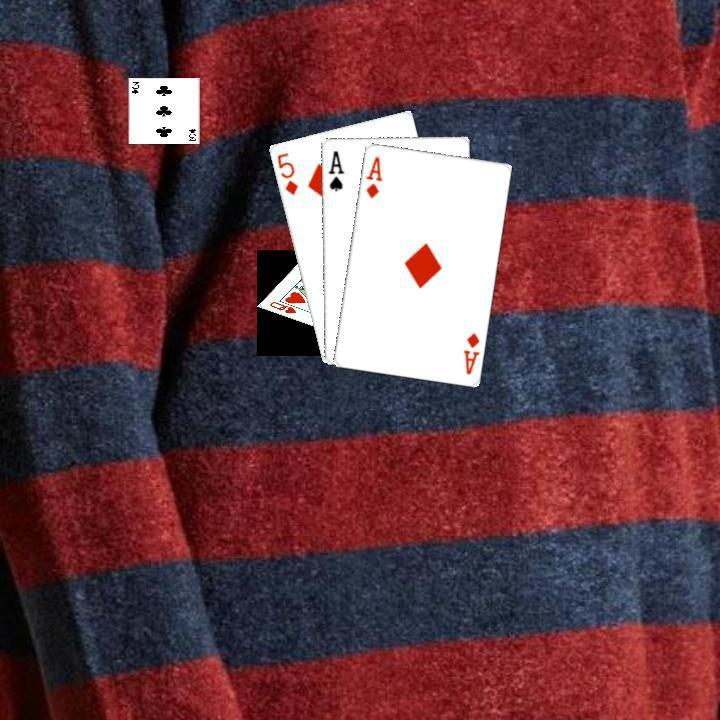5: (272, 148, 300, 197)
A: (361, 152, 384, 200), (323, 146, 346, 193), (459, 328, 481, 376)
